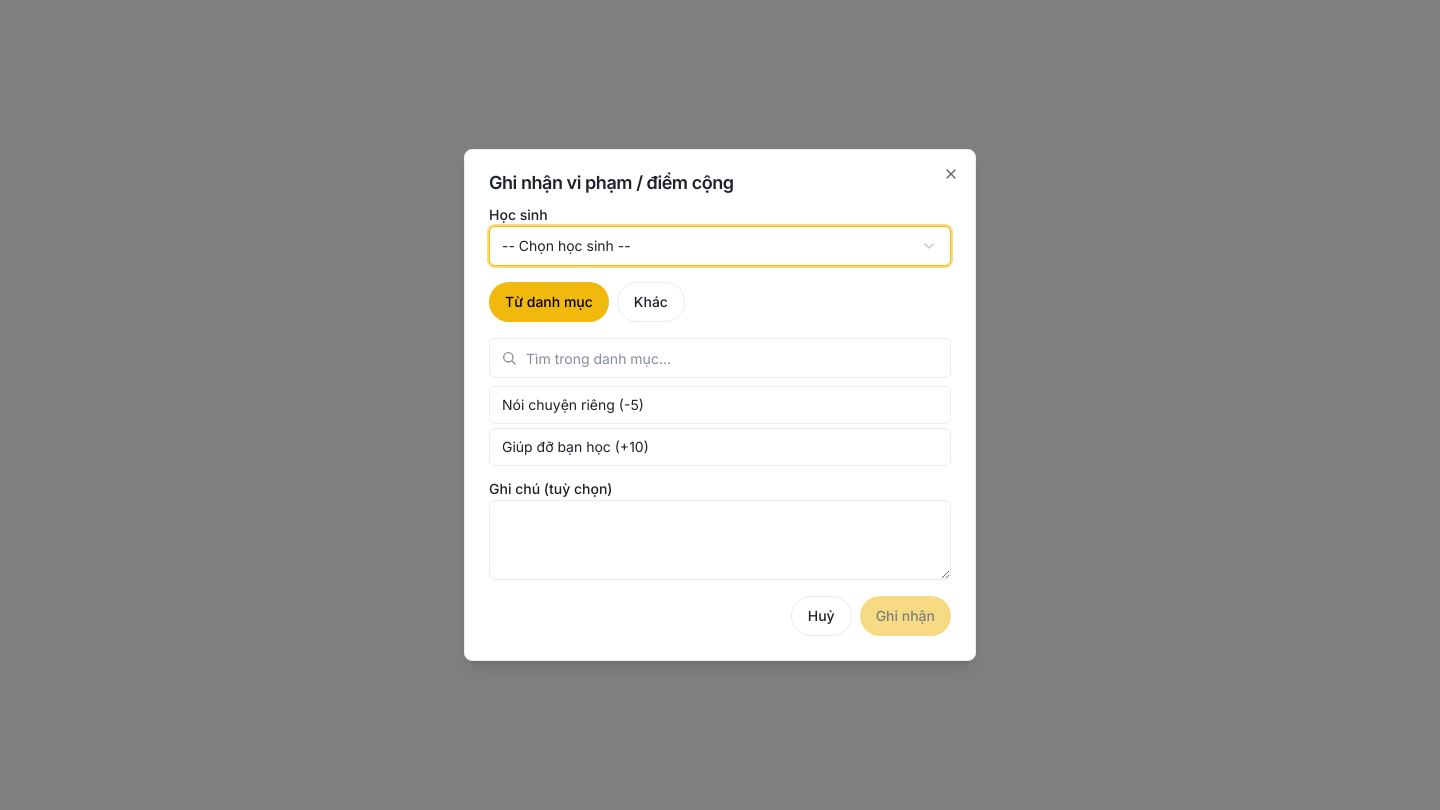
Test: (c) submit thành công (từ danh mục) với response.punishments có 1 phần tử → hiện đúng banner số dòng/hạn nộp
Select "Nguyễn Văn A" in the dropdown labelled "Học sinh": (720, 246) [489,226,951,266]
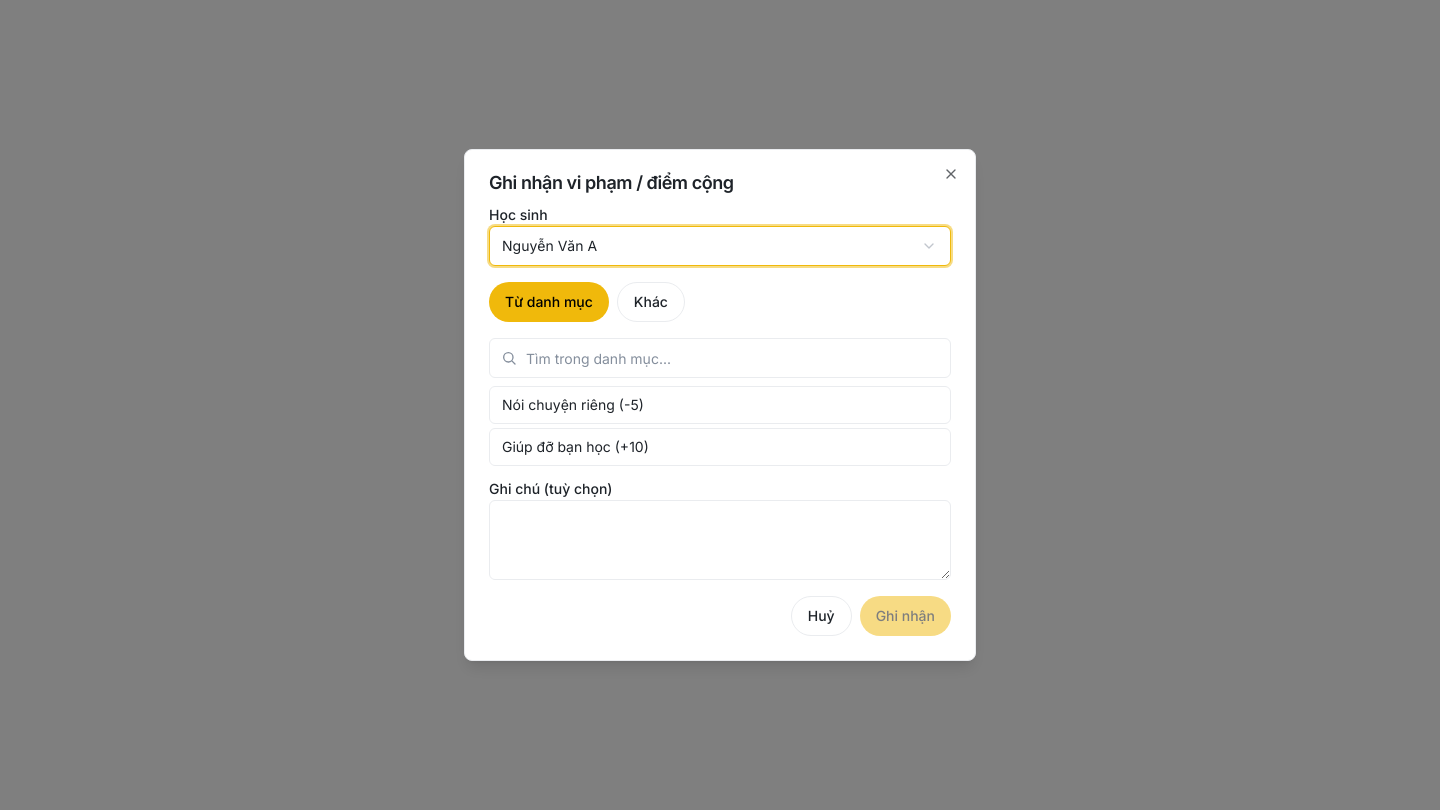
Click the button "Nói chuyện riêng (-5)": (558, 404) [489,386,951,424]
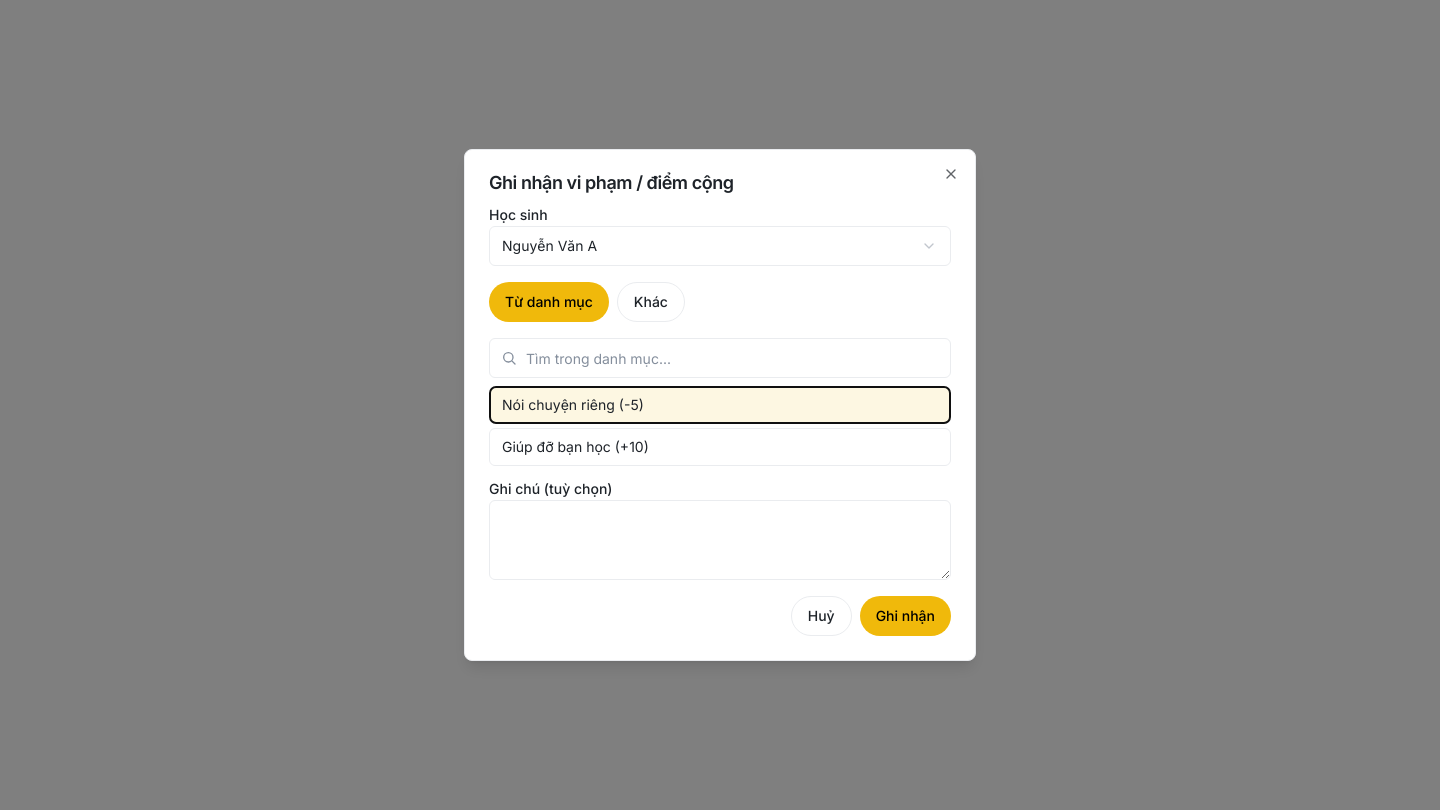
Click the button "Ghi nhận": (905, 616) [860,596,951,636]
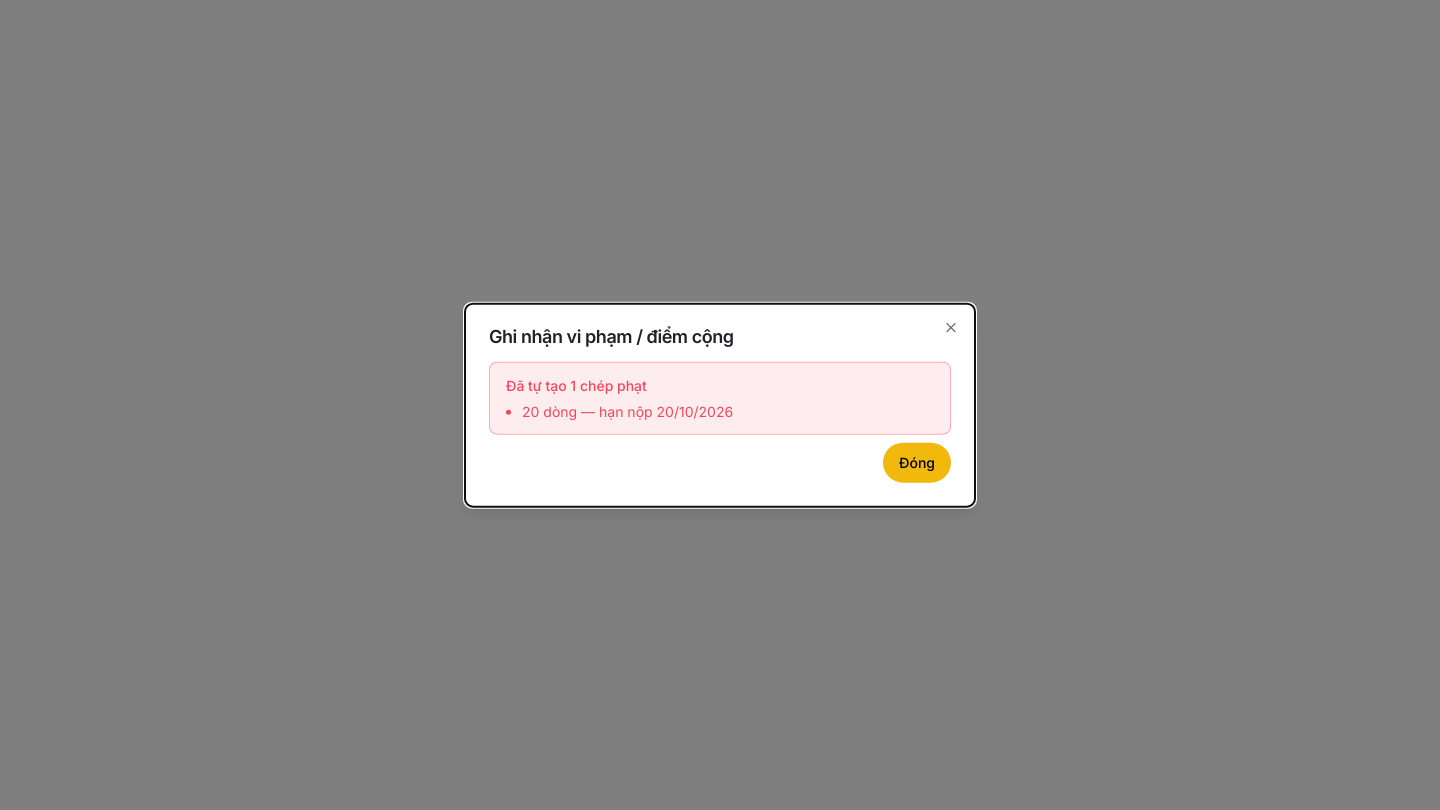
Check: the text "Đã tự tạo 1 chép phạt" is shown, box [506,377,647,394]
Check: the list item "20 dòng — hạn nộp 20/10/2026" is shown, box [522,402,733,419]
